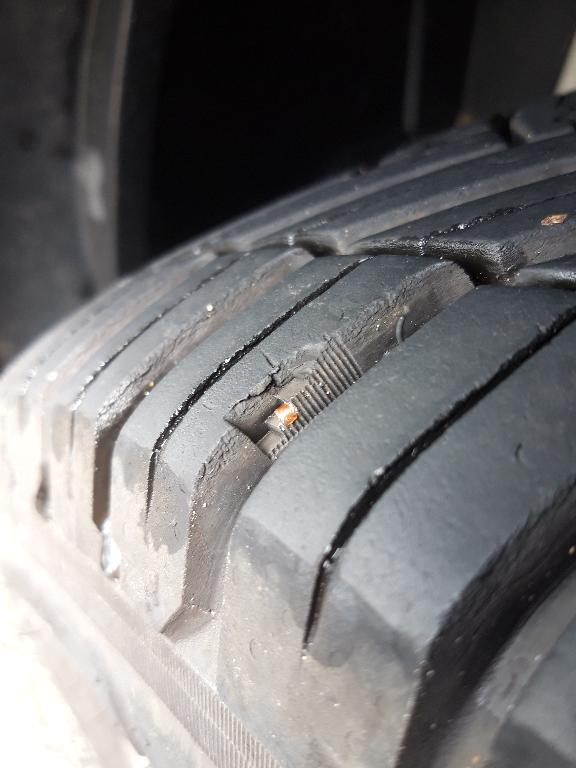temoin:80: (221, 329, 367, 465)
